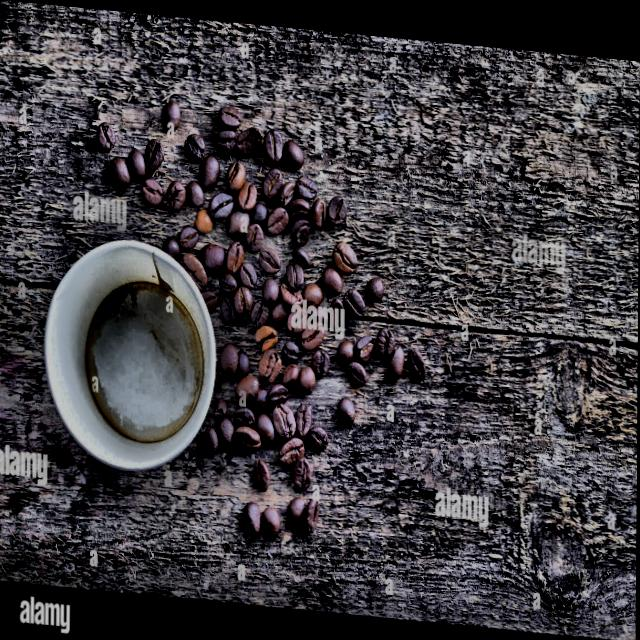Cup: (34, 221, 223, 481)
